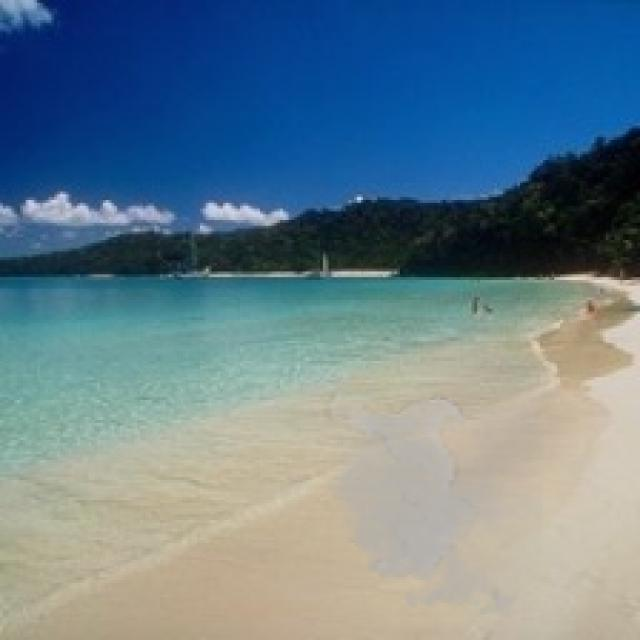smoke: (317, 391, 543, 623)
